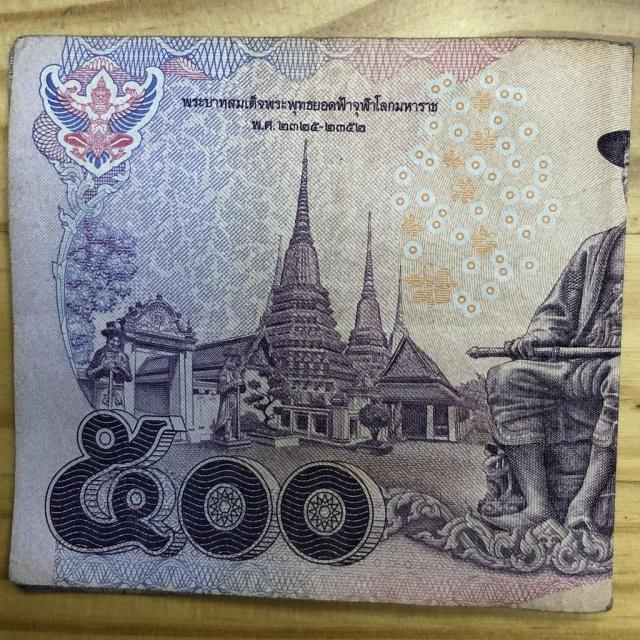THAI500: (13, 41, 632, 610)
